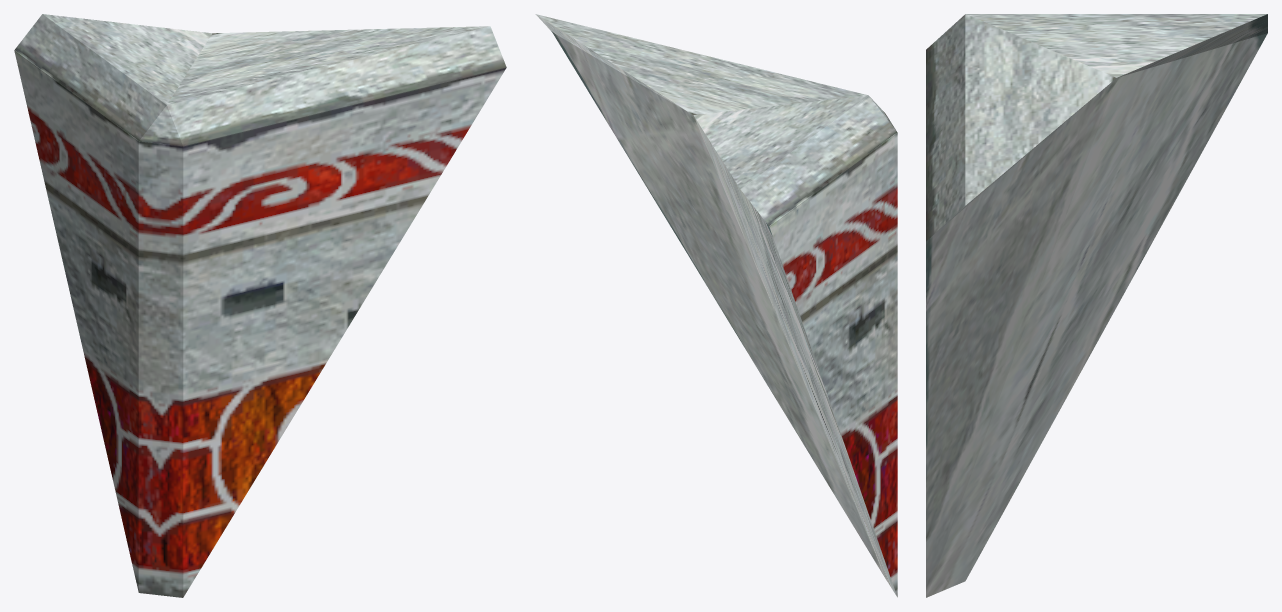
Rendered from Piece1.obj.
3 renders of one model, left to right at view 1: azimuth 30°, elevation 25°; view 2: azimuth 150°, elevation 25°; view 3: azimuth 270°, elevation 25°, orthographic. The views are drawn at different scales.
Size of the model in its own units: 25 by 32.67 by 17.33.
Materials: 2 (2 with a texture image).
